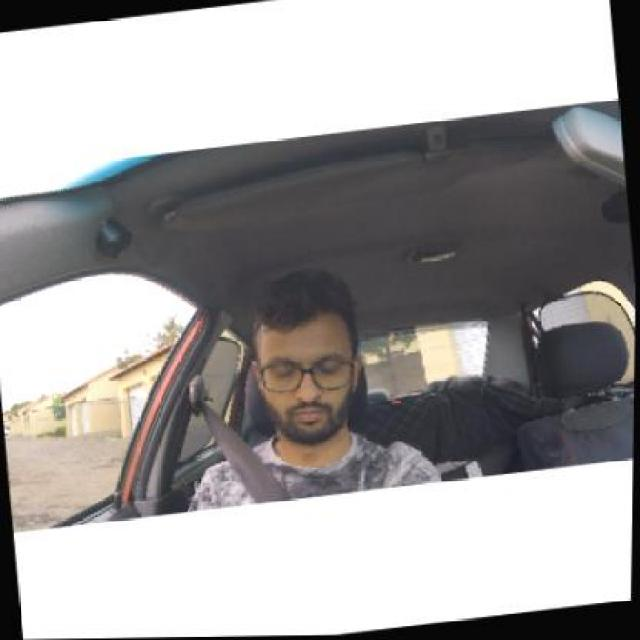drowsy: (252, 302, 372, 438)
